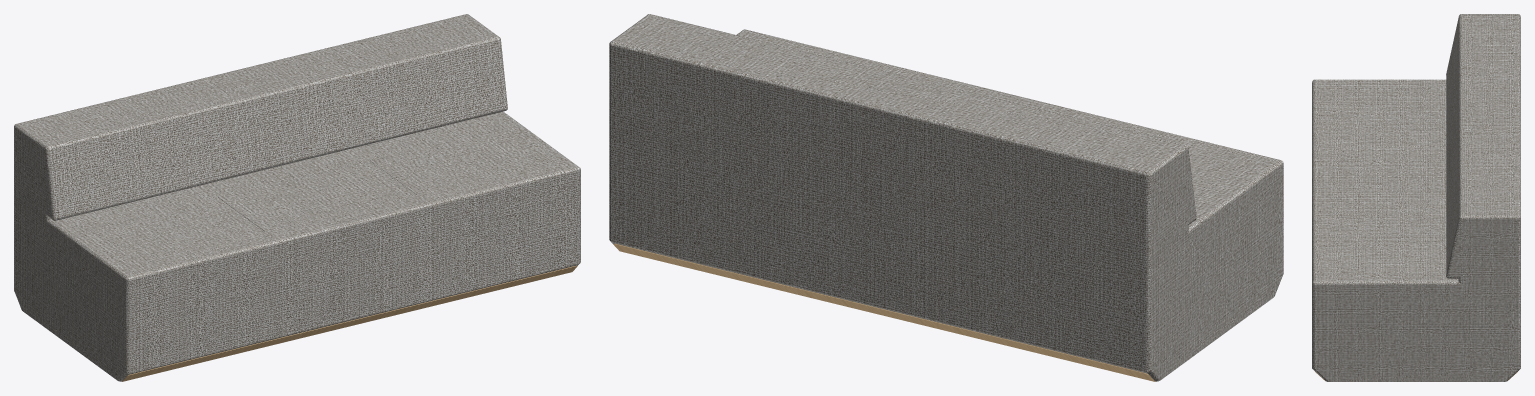
3 renders of one model, left to right at view 1: azimuth 30°, elevation 25°; view 2: azimuth 150°, elevation 25°; view 3: azimuth 270°, elevation 25°, orthographic. The views are drawn at different scales.
Parts seen in each view (by area): view 1: 2, 6; view 2: 2, 4; view 3: 2.
Part boxes in pixels (x1,y1,x2,y2): 2: (14, 14, 580, 381); 6: (122, 265, 577, 381); 2: (609, 14, 1283, 381); 4: (613, 243, 1155, 381); 2: (1312, 14, 1520, 381).
Bounding box in the file's own units: 1.8 × 0.6937 × 0.78.
Materials: 3 (2 with a texture image).
